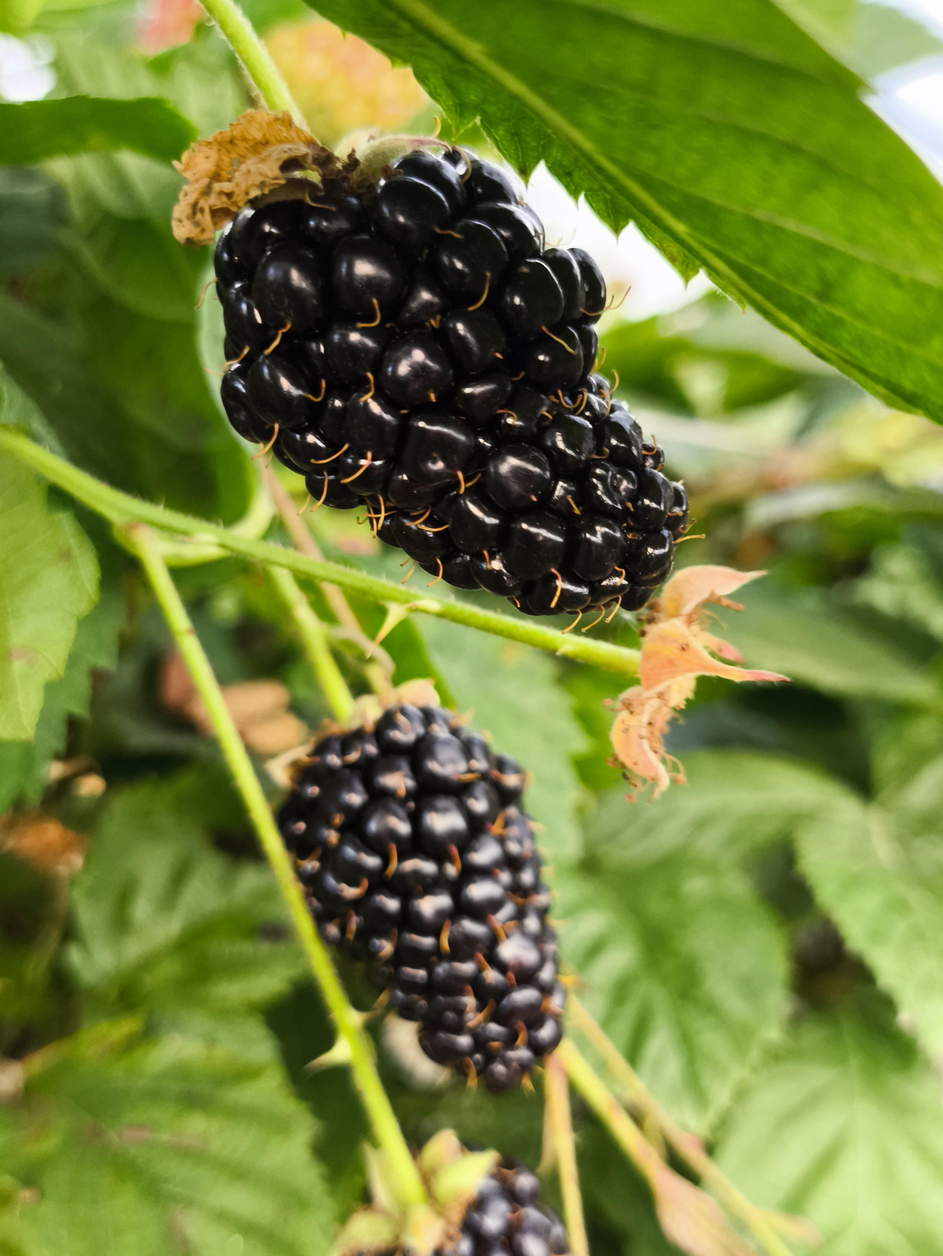maduro: (197, 147, 587, 500), (273, 704, 566, 1082), (363, 373, 680, 608)
